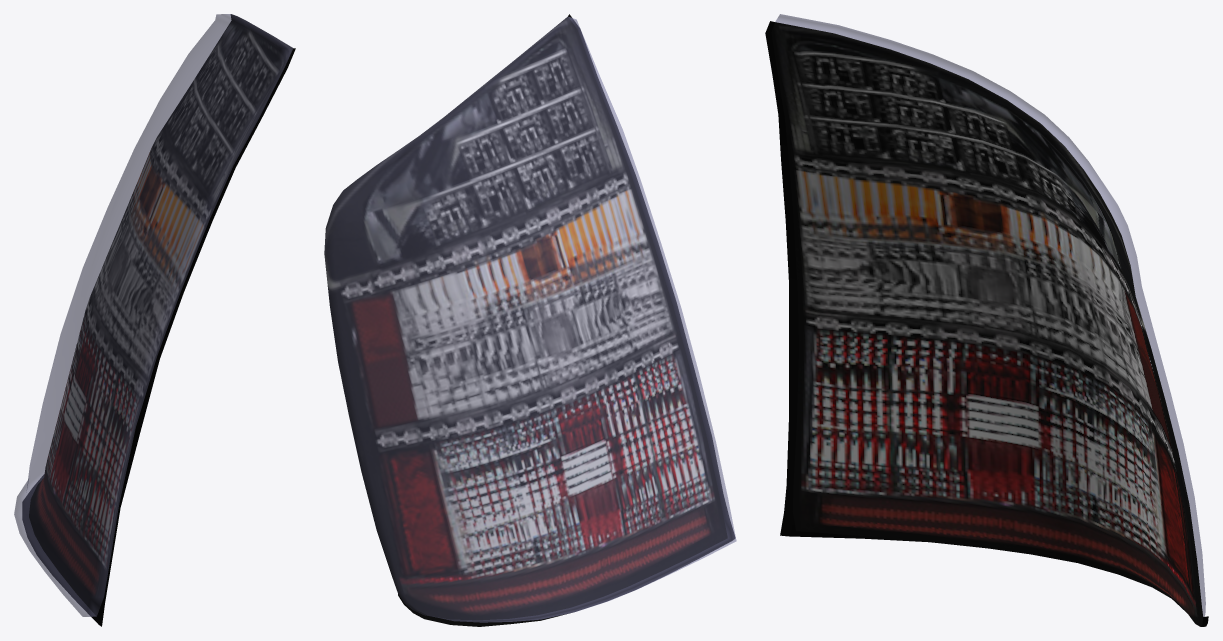
3 renders of one model, left to right at view 1: azimuth 30°, elevation 25°; view 2: azimuth 150°, elevation 25°; view 3: azimuth 270°, elevation 25°, orthographic. The views are drawn at different scales.
Parts seen in each view (by area): view 1: Y191_13_541C_L_Y191_13_541C_L_1_DTaSI, Y191_13_541C_L_4_N_Y191_13_541C_L, Y191_13_541C_L_Y191_13_541C_L_3_D; view 2: Y191_13_541C_L_Y191_13_541C_L_1_DTaSI, Y191_13_541C_L_4_N_Y191_13_541C_L, Y191_13_541C_L_Y191_13_541C_L_3_D; view 3: Y191_13_541C_L_4_N_Y191_13_541C_L, Y191_13_541C_L_Y191_13_541C_L_1_DTaSI, Y191_13_541C_L_Y191_13_541C_L_3_D.
Part boxes in pixels (x1,y1,x2,y2): Y191_13_541C_L_Y191_13_541C_L_1_DTaSI: [14, 14, 292, 616]; Y191_13_541C_L_4_N_Y191_13_541C_L: [29, 14, 292, 616]; Y191_13_541C_L_Y191_13_541C_L_3_D: [22, 48, 295, 626]; Y191_13_541C_L_Y191_13_541C_L_1_DTaSI: [324, 16, 736, 622]; Y191_13_541C_L_4_N_Y191_13_541C_L: [324, 17, 727, 620]; Y191_13_541C_L_Y191_13_541C_L_3_D: [398, 14, 735, 626]; Y191_13_541C_L_4_N_Y191_13_541C_L: [771, 22, 1203, 626]; Y191_13_541C_L_Y191_13_541C_L_1_DTaSI: [775, 14, 1205, 616]; Y191_13_541C_L_Y191_13_541C_L_3_D: [765, 21, 1208, 626].
Size of the model in its own units: 21.81 by 35.3 by 22.76.
